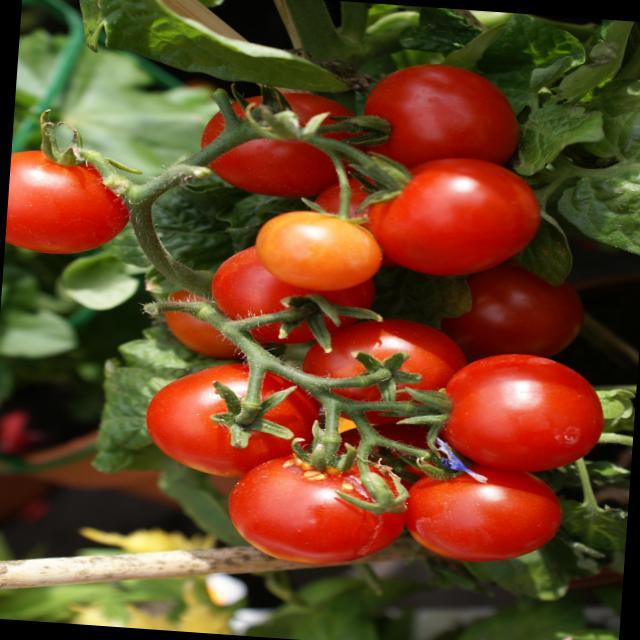TOMATO: (366, 150, 540, 282), (450, 349, 610, 483), (315, 312, 452, 412), (249, 207, 390, 299), (5, 152, 124, 258), (334, 316, 440, 382), (441, 397, 454, 411)
